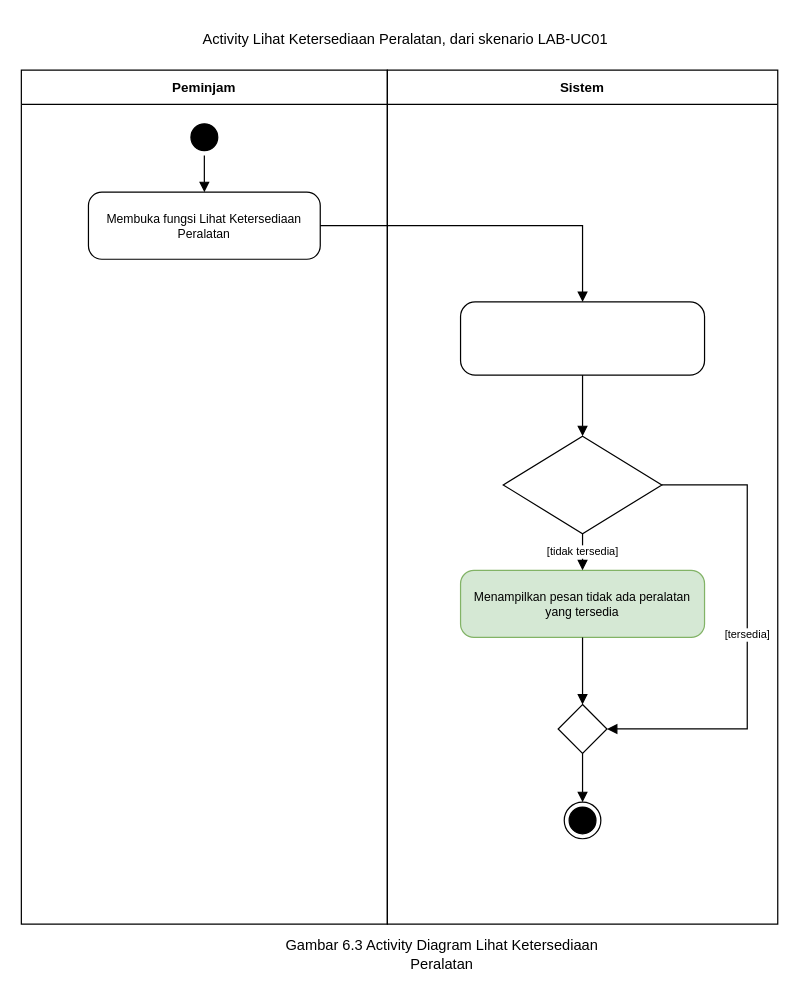
Some shapes in this 799 by 993 pixel diagram are drawn without their labels. The centre of each missing label's shape, as x and y in pixels:
Menampilkan daftar peralatan beserta status ketersediaannya: pixel 582 338
Peralatan tersedia?: pixel 582 484
